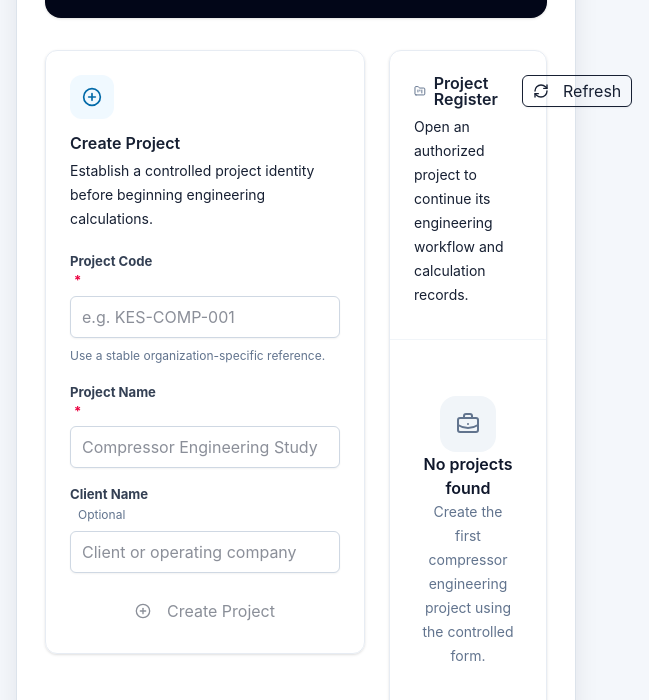
ProjectsPage › renders backend project-creation validation detail
(page scrolled)
Expected: the text "No projects found" is shown, [422,452,514,500]
Type "KES-DUPLICATE" into the field labelled "Project Code" at (205, 317), box [70,296,340,338]
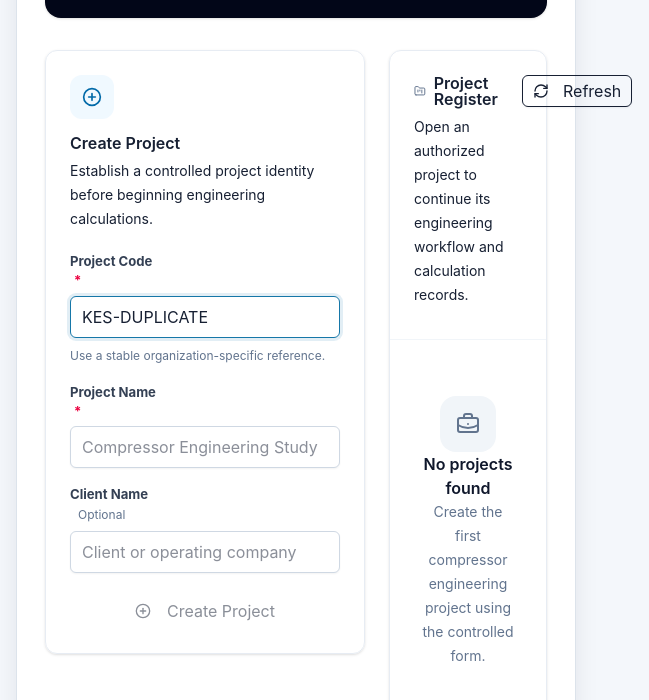
Type "Duplicate Project" into the field labelled "Project Name" at (205, 447), box [70,426,340,468]
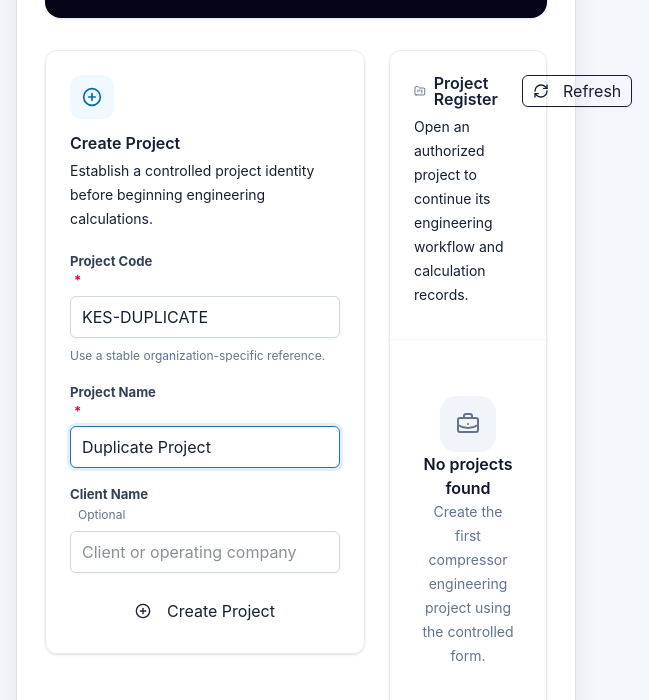
Click the button "Create Project" at (205, 611), box [70,593,340,629]
(page scrolled)
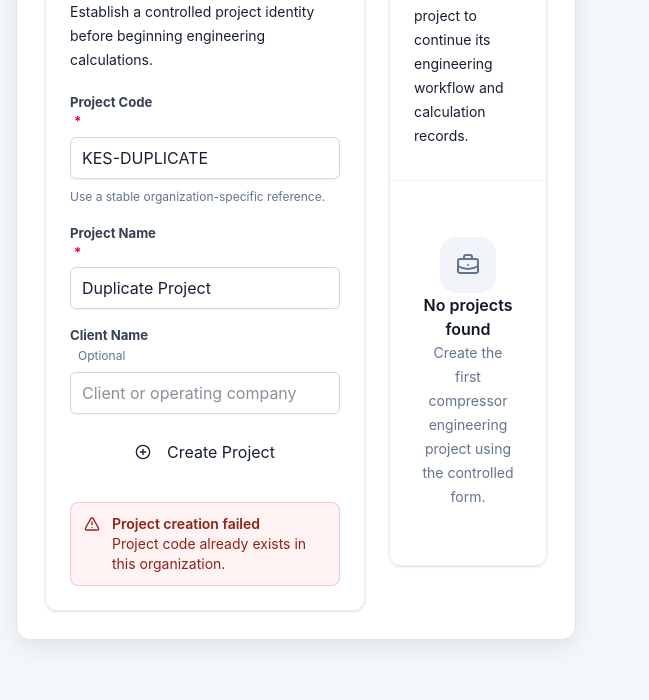
Expected: the text "Project creation failed" is shown, [112,515,260,532]
Expected: the text "Project code already exists in this organization." is shown, [112,534,326,574]
